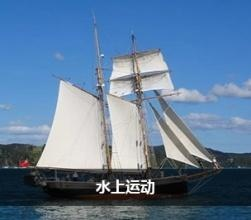fanchuan: (31, 28, 211, 192)
